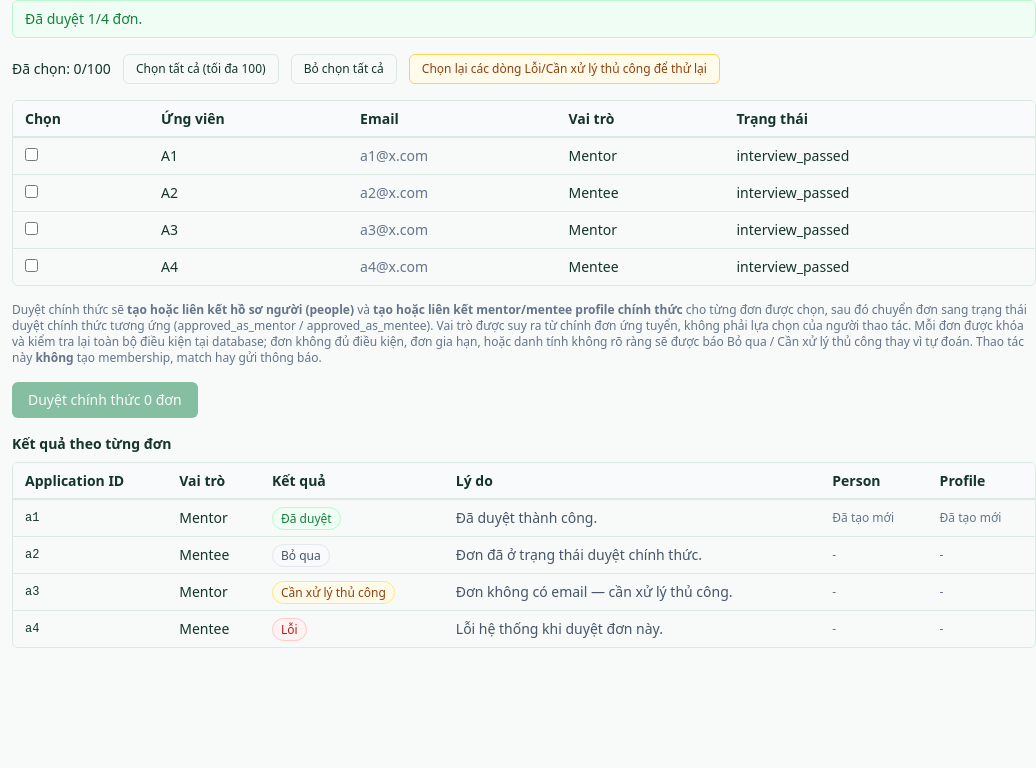
BulkApprovalForm — row-level results › a failed/manual row stays retryable: clicking retry re-selects exactly those application IDs
Click the button "Chọn lại các dòng Lỗi/Cần xử lý thủ công để thử lại": (564, 69) [409,54,720,84]
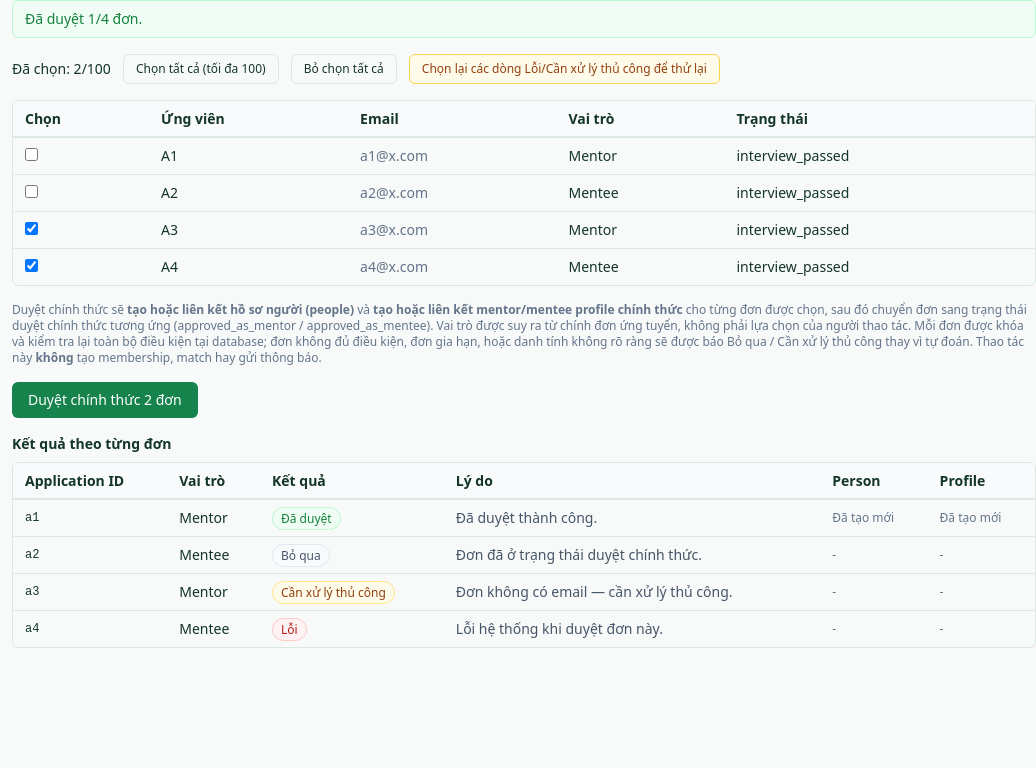
Expected: the text "Đã chọn: 2/100" is shown, [12,59,111,79]
Expected: the checkbox in the row of "a3@x.com" is checked, [25,222,38,235]
Expected: the checkbox in the row of "a4@x.com" is checked, [25,259,38,272]
